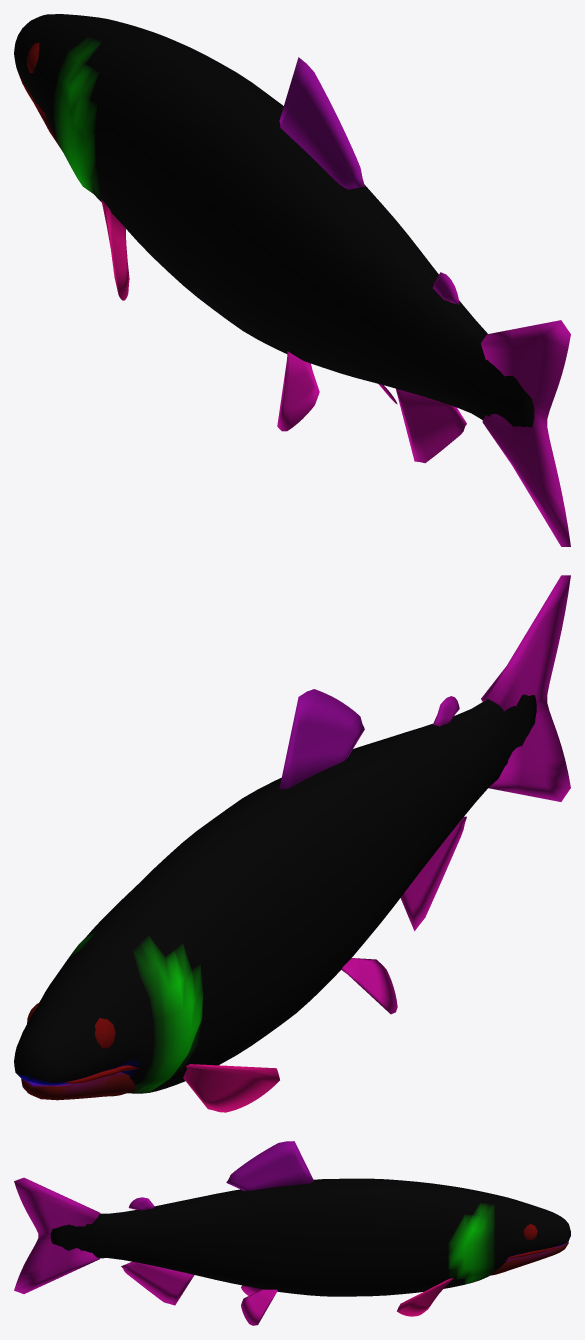
The model's file is sockeye_ocean_lo.glb.
The picture shows the model from 3 angles, top to bottom: view 1: azimuth 30°, elevation 25°; view 2: azimuth 150°, elevation 25°; view 3: azimuth 270°, elevation 25°; orthographic projection. The views are drawn at different scales.
Parts seen in each view (by area): view 1: sockeye_ocean_lo; view 2: sockeye_ocean_lo; view 3: sockeye_ocean_lo.
Boxes of the visible parts, <box> form: sockeye_ocean_lo: <box>14,14,570,546</box>; sockeye_ocean_lo: <box>14,575,570,1112</box>; sockeye_ocean_lo: <box>14,1141,570,1325</box>.
Bounding box in the file's own units: 0.1033 × 0.2014 × 0.5966.
